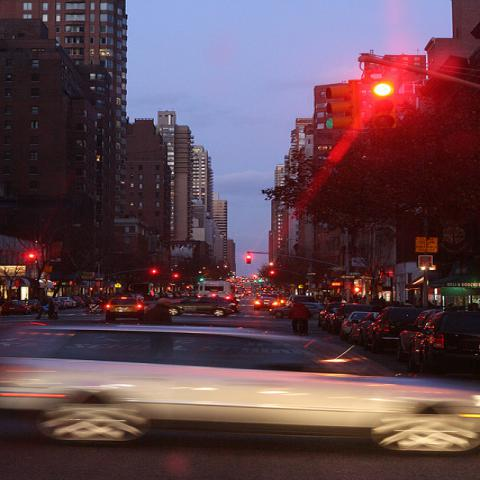car: (1, 321, 479, 452), (397, 310, 479, 366), (362, 306, 444, 354), (322, 304, 379, 334), (168, 297, 242, 317), (346, 313, 378, 346), (338, 309, 369, 340), (105, 296, 144, 320), (271, 304, 324, 320), (318, 302, 346, 328), (253, 296, 278, 310), (60, 297, 78, 308)
truck: (1, 330, 479, 452)
